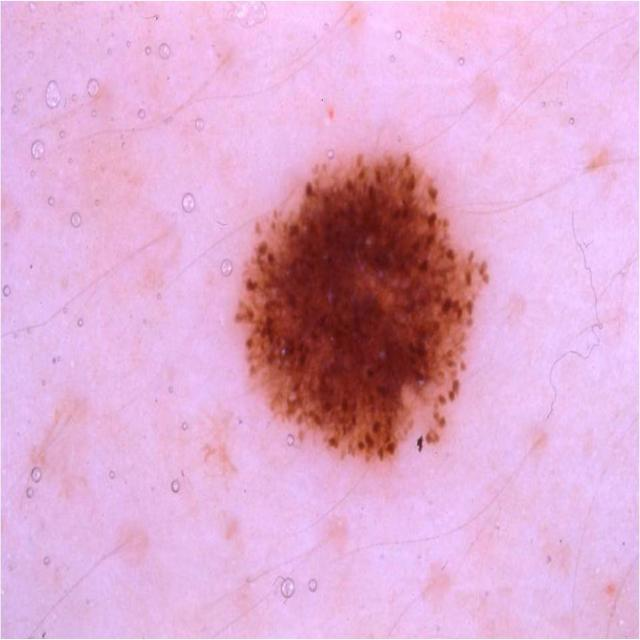Benign: (235, 148, 495, 482)
